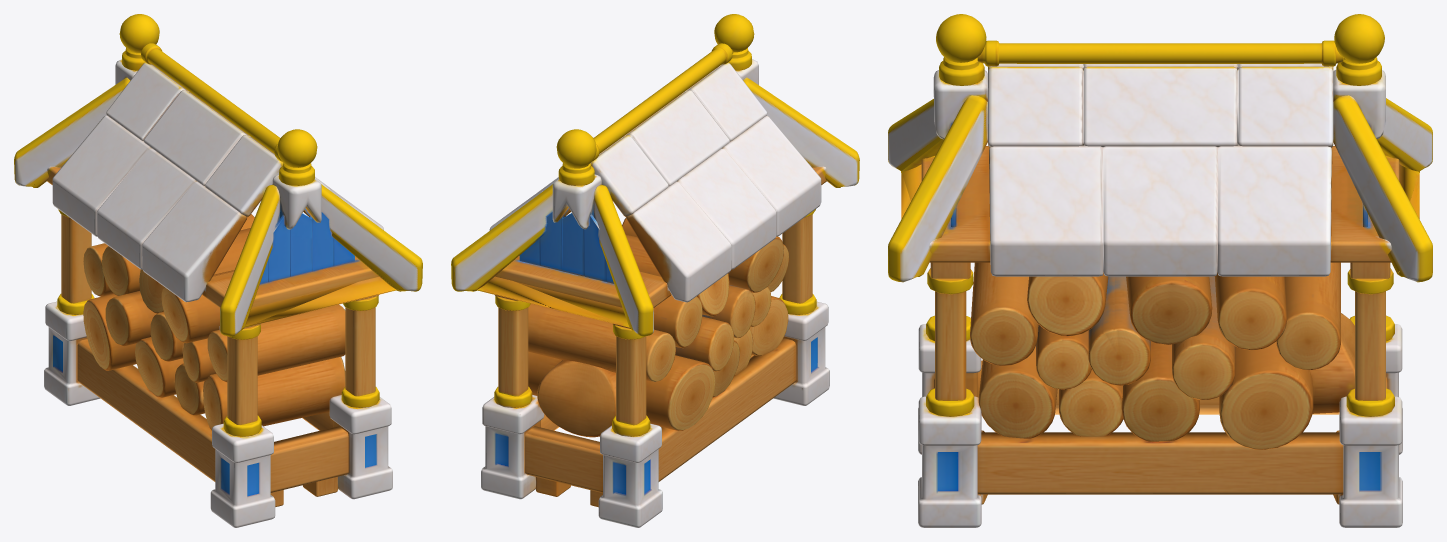
Rendered from HaloReasonHQ_Woodpile_SM_tex4k_pbr_src.fbx.
The picture shows the model from 3 angles, left to right: view 1: azimuth 30°, elevation 25°; view 2: azimuth 150°, elevation 25°; view 3: azimuth 270°, elevation 25°; orthographic projection. The views are drawn at different scales.
Visible parts, largest first — view 1: tripo_3cbf2a0d_9fc1_4d90_b6e5_369e9c472325; view 2: tripo_3cbf2a0d_9fc1_4d90_b6e5_369e9c472325; view 3: tripo_3cbf2a0d_9fc1_4d90_b6e5_369e9c472325.
Part boxes in pixels (x1,y1,x2,y2): tripo_3cbf2a0d_9fc1_4d90_b6e5_369e9c472325: [14, 14, 422, 527]; tripo_3cbf2a0d_9fc1_4d90_b6e5_369e9c472325: [451, 14, 859, 527]; tripo_3cbf2a0d_9fc1_4d90_b6e5_369e9c472325: [888, 14, 1432, 527].
Bounding box in the file's own units: 0.5386 × 0.9419 × 0.9995.
1 material, 1 textured.
